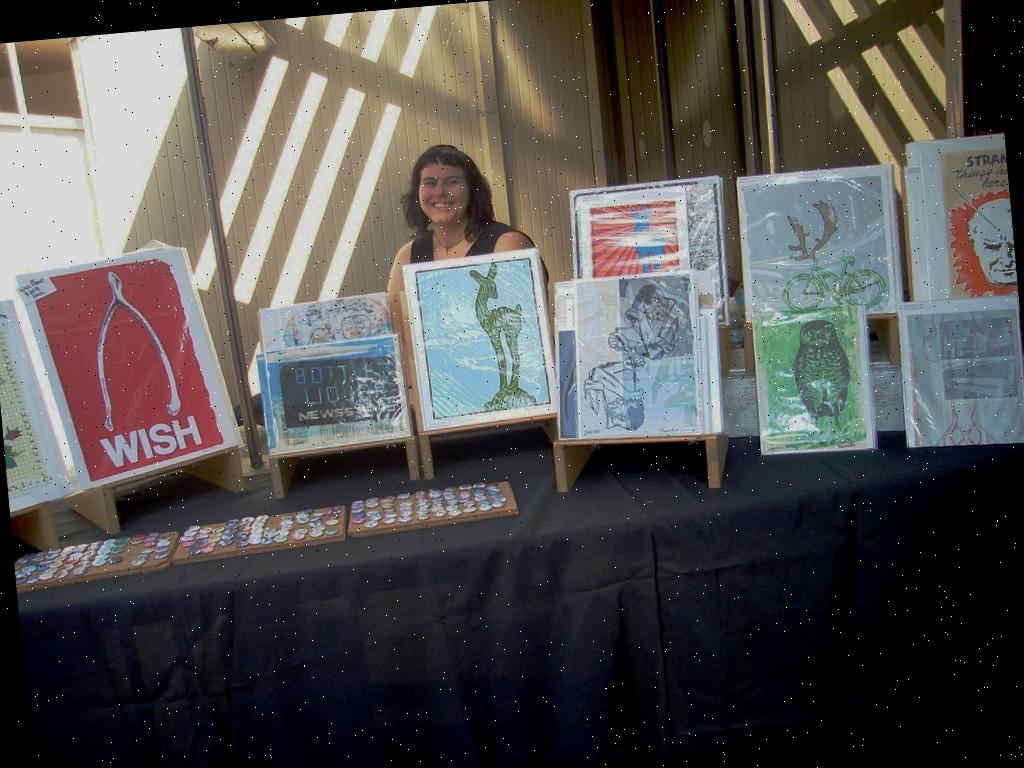Owl: (780, 314, 852, 422)
